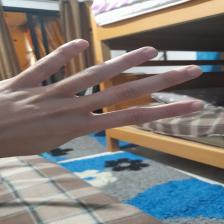four: (4, 35, 214, 157)
